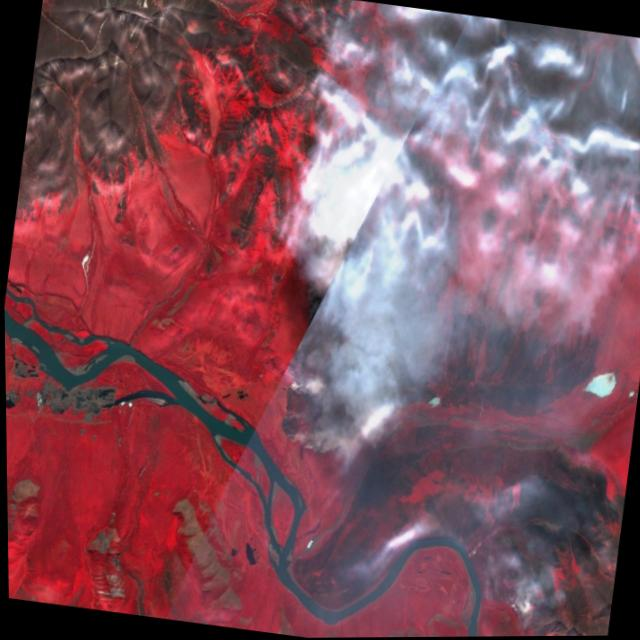fire: (267, 165, 425, 477), (482, 586, 537, 621)
